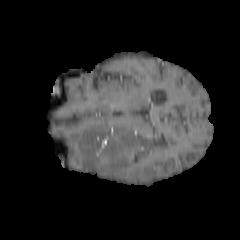glioma: (77, 126, 155, 174)
